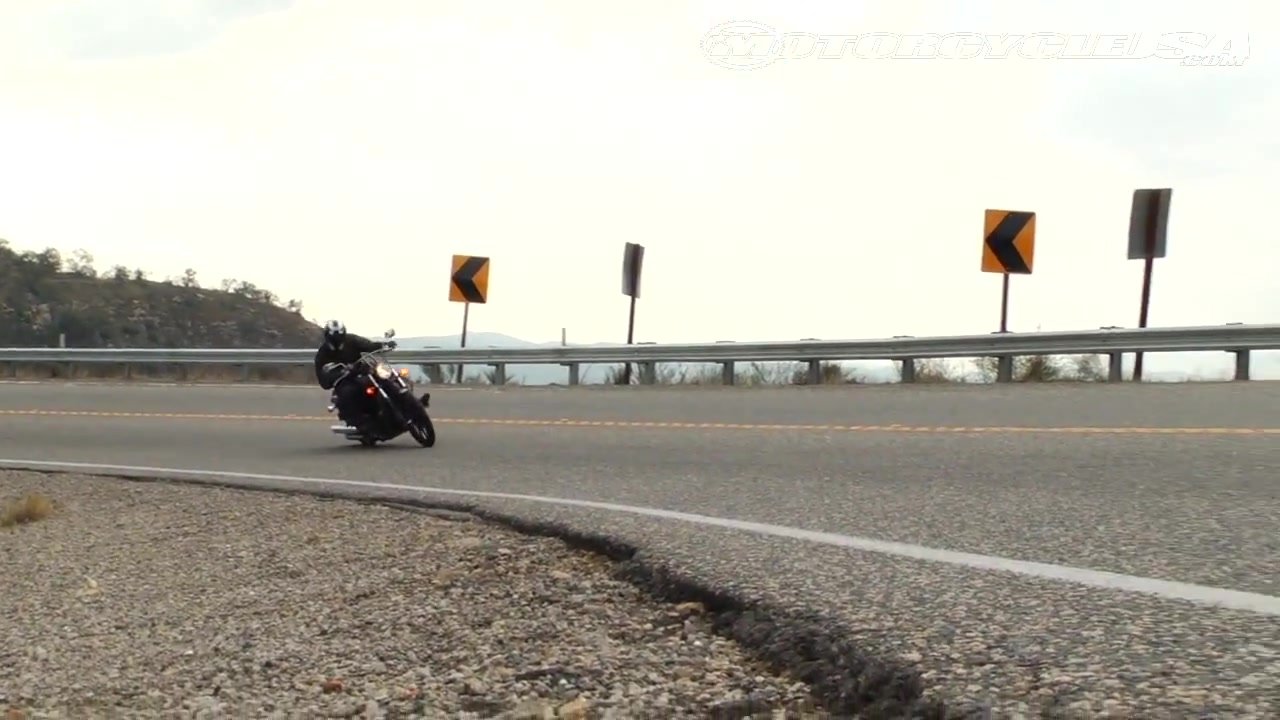motorbike: (320, 328, 444, 459)
